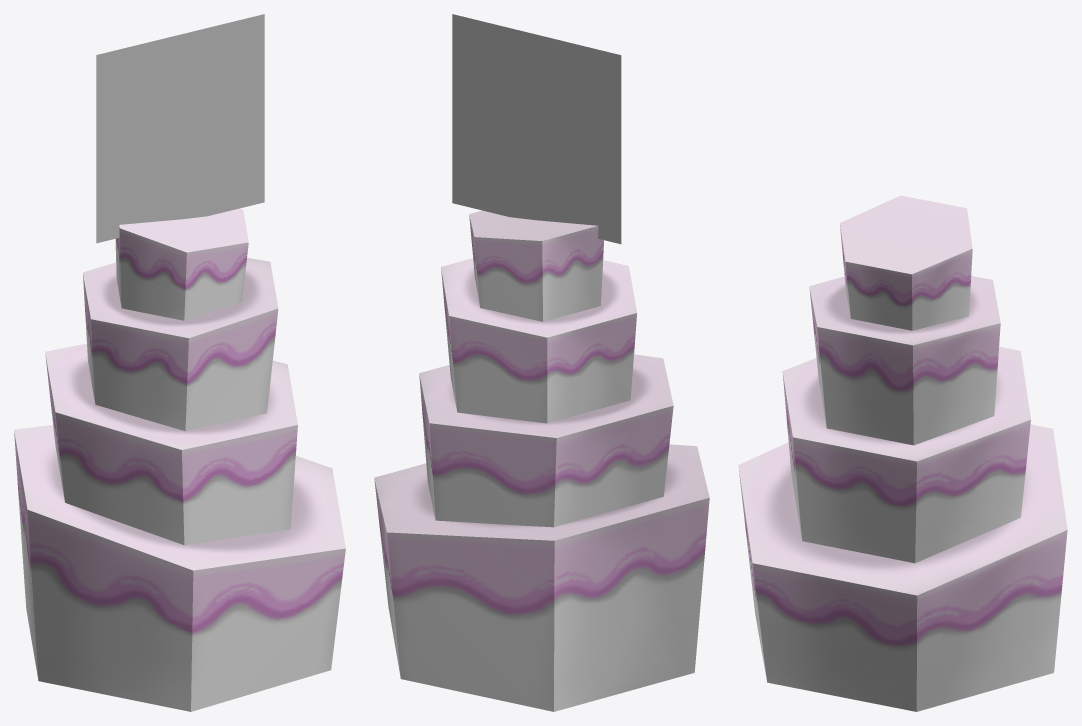
File: wedding_cake.fbx
3 views of the same model, side by side, from view 1: azimuth 30°, elevation 25°; view 2: azimuth 150°, elevation 25°; view 3: azimuth 270°, elevation 25° (orthographic). The views are drawn at different scales.
Parts seen in each view (by area): view 1: cake1, cake_topper, cake2, cake3, cake4; view 2: cake1, cake_topper, cake2, cake3, cake4; view 3: cake1, cake2, cake3, cake4.
Part boxes in pixels (x1,y1,x2,y2): cake1: (14,425,345,711); cake_topper: (96,14,264,243); cake2: (45,343,297,545); cake3: (83,258,278,431); cake4: (115,208,248,320); cake1: (374,444,709,711); cake_topper: (452,14,621,244); cake2: (419,354,673,527); cake3: (441,258,636,423); cake4: (469,210,603,321); cake1: (738,424,1067,711); cake2: (782,346,1030,563); cake3: (809,276,1000,445); cake4: (840,195,972,330).
Size of the model in its own units: 1.59 by 2.87 by 1.44.
